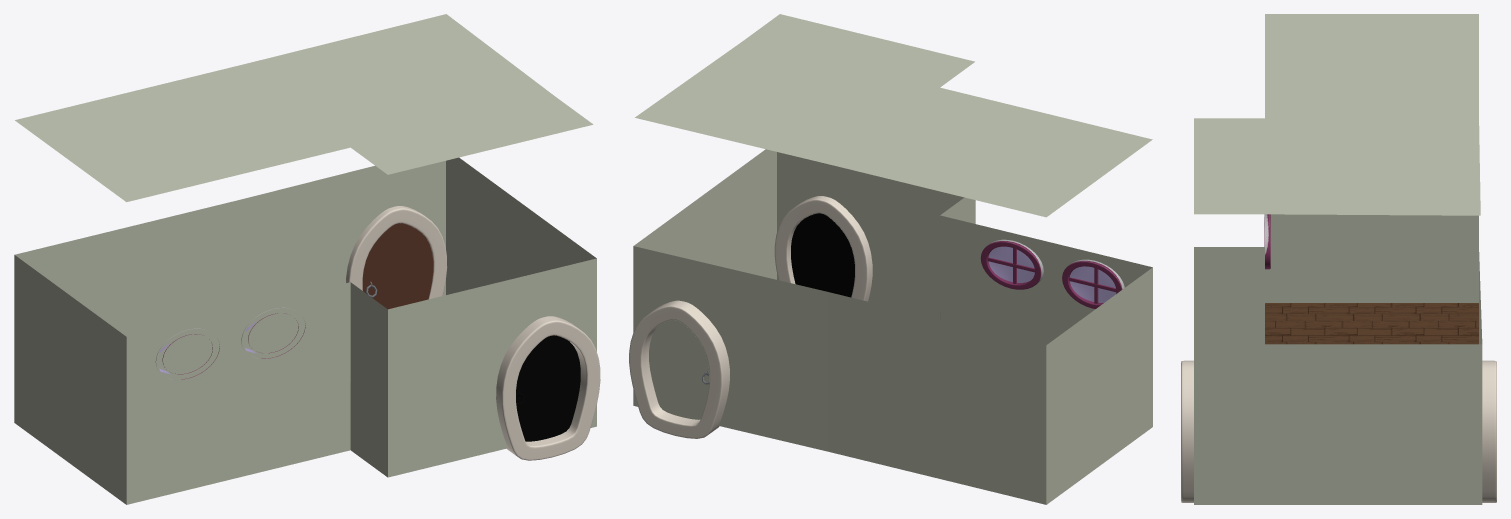
Rendered from Correct2.fbx.
The picture shows the model from 3 angles, left to right: view 1: azimuth 30°, elevation 25°; view 2: azimuth 150°, elevation 25°; view 3: azimuth 270°, elevation 25°; orthographic projection. The views are drawn at different scales.
Parts seen in each view (by area): view 1: Wall, Top, House_Assets, Black; view 2: Wall, Top, House_Assets, Black; view 3: Wall, Top, Base, House_Assets.
Part boxes in pixels (bbox=[...]): Wall: bbox=[14, 157, 596, 504]; Top: bbox=[15, 14, 593, 202]; House_Assets: bbox=[155, 206, 600, 460]; Black: bbox=[516, 335, 580, 441]; Wall: bbox=[633, 149, 1152, 504]; Top: bbox=[635, 14, 1152, 217]; House_Assets: bbox=[629, 196, 1124, 438]; Black: bbox=[791, 213, 854, 297]; Wall: bbox=[1194, 214, 1482, 504]; Top: bbox=[1194, 14, 1480, 215]; Base: bbox=[1265, 303, 1478, 344]; House_Assets: bbox=[1181, 214, 1496, 502].
Bounding box in the file's own units: 14.5 × 10.13 × 9.58.
2 materials, 2 textured.
